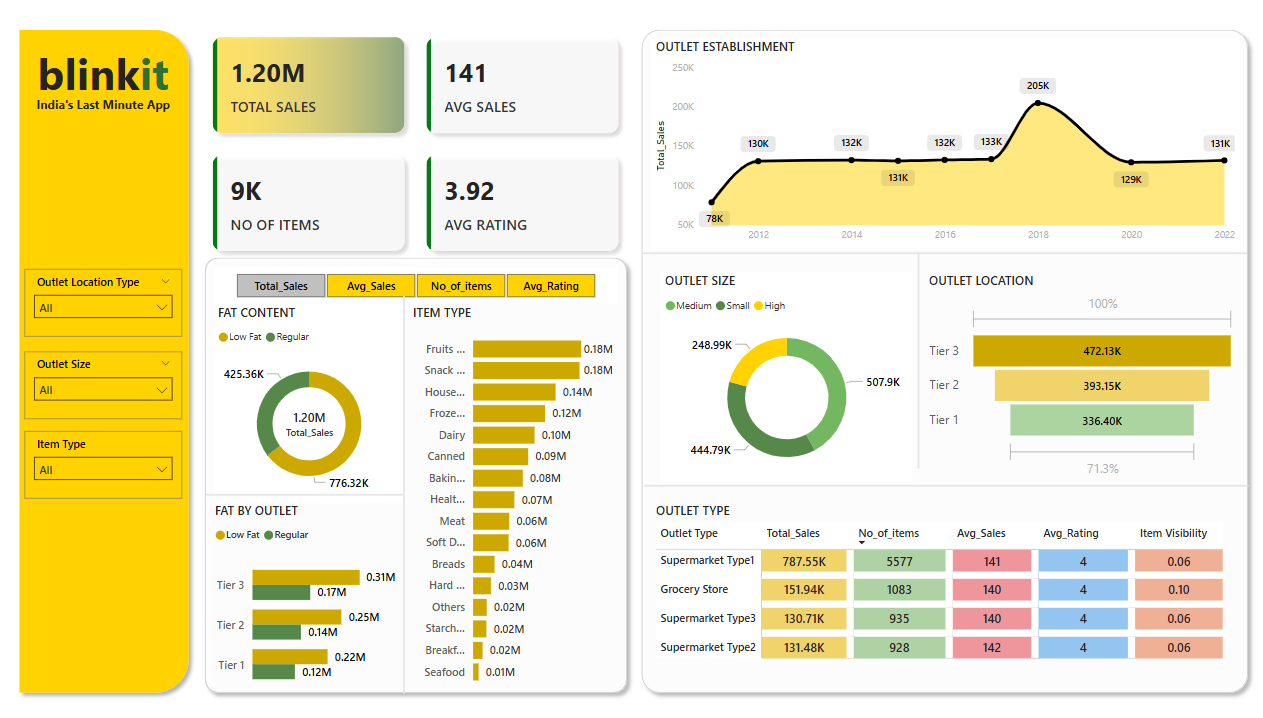

Layout of this report page (visuals, bound fields, positions):
{"tool":"powerbi","page":{"name":"Page 1","canvas":[1400,800],"ordinal":0},"visuals":[{"type":"shape","box":[13.2,24.8,205.4,750.2],"z":0},{"type":"textbox","box":[33.1,43.1,164,74.5],"z":1000},{"type":"textbox","box":[23.2,101,183.8,33.1],"z":2000},{"type":"cardVisual","fields":{"Data":["BlinkIT Grocery Data.Total_Sales","BlinkIT Grocery Data.Avg_Sales","BlinkIT Grocery Data.No_of_items","BlinkIT Grocery Data.Avg_Rating"]},"box":[218.6,24.8,483.6,271.6],"z":3000},{"type":"shape","box":[218.6,276.6,483.6,498.5],"z":4000},{"type":"donutChart","title":"FAT CONTENT","fields":{"Y":["BlinkIT Grocery Data.Total_Sales"],"Category":["BlinkIT Grocery Data.Item Fat Content"]},"box":[236.8,336.2,210.3,220.3],"z":5000},{"type":"slicer","fields":{"Values":["Metrics.Metrics"]},"box":[236.8,296.5,445.5,39.7],"z":6000},{"type":"cardVisual","fields":{"Data":["BlinkIT Grocery Data.Total_Sales"]},"box":[294.8,435.6,96.1,56.3],"z":7000},{"type":"clusteredBarChart","title":"FAT BY OUTLET","fields":{"Y":["BlinkIT Grocery Data.Total_Sales"],"Category":["BlinkIT Grocery Data.Outlet Location Type"],"Series":["BlinkIT Grocery Data.Item Fat Content"]},"box":[233.5,554.8,208.7,220.3],"z":8000},{"type":"shape","box":[228.6,538.3,218.6,18.2],"z":9000},{"type":"shape","box":[442.2,327.9,9.9,438.9],"z":10000},{"type":"barChart","title":"ITEM TYPE","fields":{"Y":["BlinkIT Grocery Data.Total_Sales"],"Category":["BlinkIT Grocery Data.Item Type"]},"box":[452.1,336.2,230.2,430.6],"z":11000},{"type":"shape","box":[700.6,24.8,687.3,750.2],"z":12000},{"type":"lineChart","title":"OUTLET ESTABLISHMENT","fields":{"Y":["BlinkIT Grocery Data.Total_Sales"],"Category":["BlinkIT Grocery Data.Outlet Establishment Year"]},"box":[720.4,43.1,649.2,233.5],"z":13000},{"type":"shape","box":[710.5,276.6,667.4,8.3],"z":14000},{"type":"donutChart","title":"OUTLET SIZE","fields":{"Y":["BlinkIT Grocery Data.Total_Sales"],"Category":["BlinkIT Grocery Data.Outlet Size"]},"box":[730.4,301.4,278.2,231.9],"z":15000},{"type":"shape","box":[1008.6,281.5,13.2,236.8],"z":16000},{"type":"funnel","title":"OUTLET LOCATION","fields":{"Y":["BlinkIT Grocery Data.Total_Sales"],"Category":["BlinkIT Grocery Data.Outlet Location Type"]},"box":[1021.9,301.4,347.8,231.9],"z":17000},{"type":"shape","box":[712.1,533.3,667.4,8.3],"z":18000},{"type":"pivotTable","title":"OUTLET TYPE","fields":{"Rows":["BlinkIT Grocery Data.Outlet Type"],"Values":["BlinkIT Grocery Data.Total_Sales","BlinkIT Grocery Data.No_of_items","BlinkIT Grocery Data.Avg_Sales","BlinkIT Grocery Data.Avg_Rating","Avg(BlinkIT Grocery Data.Item Visibility)"]},"box":[720.4,554.8,650.9,198.7],"z":19000},{"type":"slicer","fields":{"Values":["BlinkIT Grocery Data.Outlet Location Type"]},"box":[28.2,298.1,173.9,74.5],"z":20000},{"type":"slicer","fields":{"Values":["BlinkIT Grocery Data.Outlet Size"]},"box":[28.2,389.2,173.9,74.5],"z":21000},{"type":"slicer","fields":{"Values":["BlinkIT Grocery Data.Item Type"]},"box":[28.2,477,173.9,74.5],"z":22000}]}

Visuals, with their boxes in screenshot pixels (x1, y1, x2, y2), scaled from the page's 1400x800 canvas onto the 1263x718 screenshot:
shape: [12, 22, 197, 696]
textbox: [30, 39, 178, 106]
textbox: [21, 91, 187, 120]
cardVisual - BlinkIT Grocery Data.Total_Sales x BlinkIT Grocery Data.Avg_Sales: [197, 22, 633, 266]
shape: [197, 248, 633, 696]
"FAT CONTENT" donutChart: [214, 302, 403, 499]
slicer - Metrics.Metrics: [214, 266, 616, 302]
cardVisual - BlinkIT Grocery Data.Total_Sales: [266, 391, 353, 441]
"FAT BY OUTLET" clusteredBarChart: [211, 498, 399, 696]
shape: [206, 483, 403, 499]
shape: [399, 294, 408, 688]
"ITEM TYPE" barChart: [408, 302, 616, 688]
shape: [632, 22, 1252, 696]
"OUTLET ESTABLISHMENT" lineChart: [650, 39, 1236, 248]
shape: [641, 248, 1243, 256]
"OUTLET SIZE" donutChart: [659, 271, 910, 479]
shape: [910, 253, 922, 465]
"OUTLET LOCATION" funnel: [922, 271, 1236, 479]
shape: [642, 479, 1245, 486]
"OUTLET TYPE" pivotTable: [650, 498, 1237, 676]
slicer - BlinkIT Grocery Data.Outlet Location Type: [25, 268, 182, 334]
slicer - BlinkIT Grocery Data.Outlet Size: [25, 349, 182, 416]
slicer - BlinkIT Grocery Data.Item Type: [25, 428, 182, 495]
